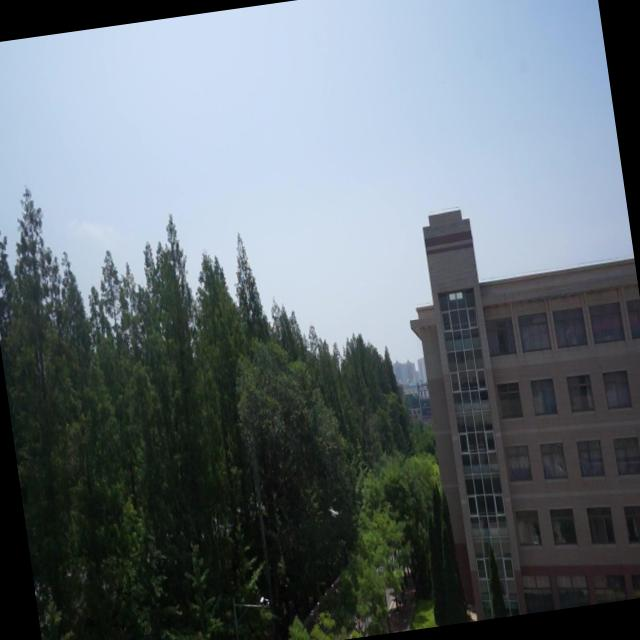drone: (325, 501, 341, 522)
